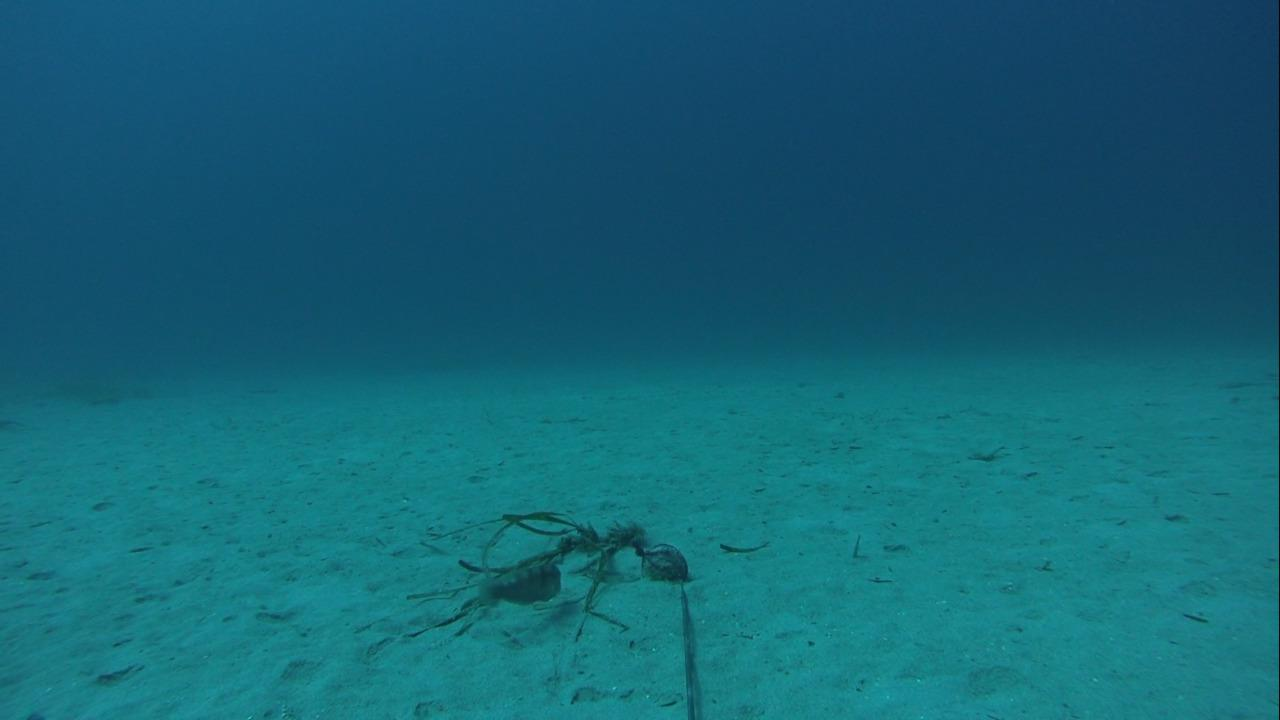raor: (472, 559, 565, 605)
